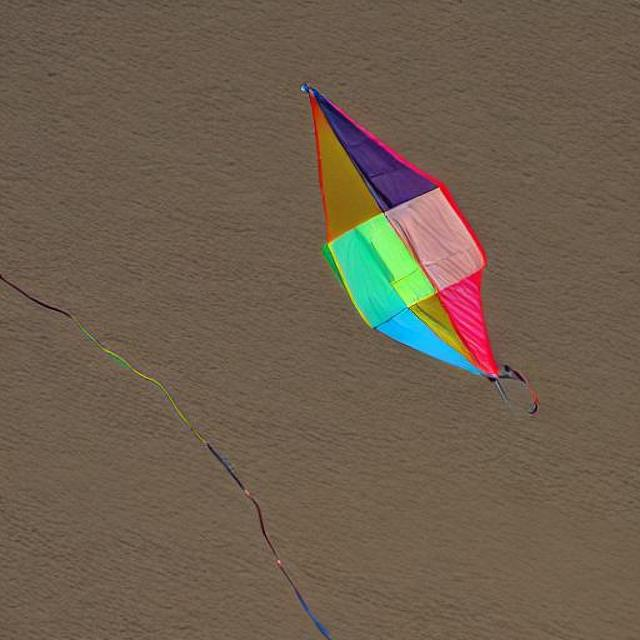floating object: (300, 83, 533, 399)
